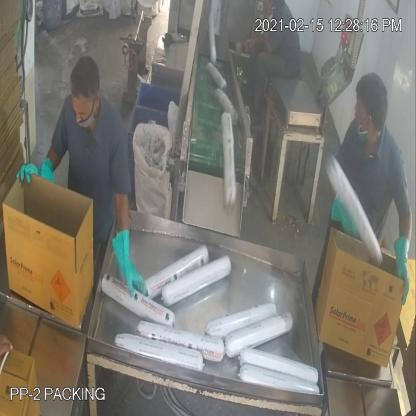glove: (106, 217, 156, 305), (13, 144, 62, 199), (388, 229, 414, 316)
